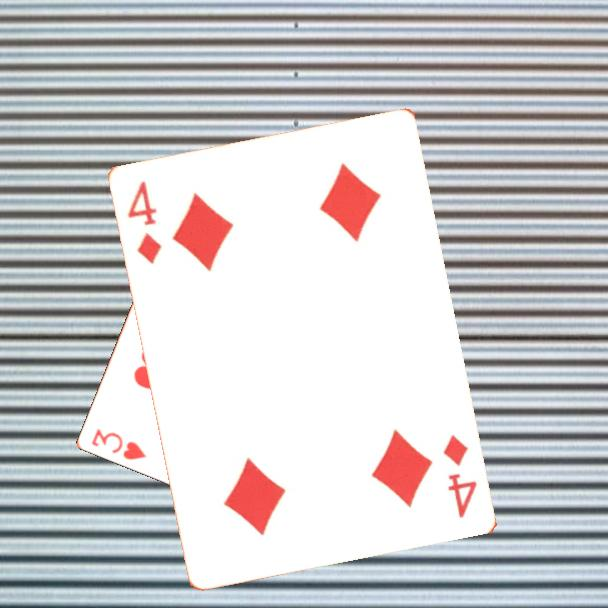d04: (440, 431, 481, 522), (125, 178, 165, 267)
h03: (88, 425, 149, 463)
